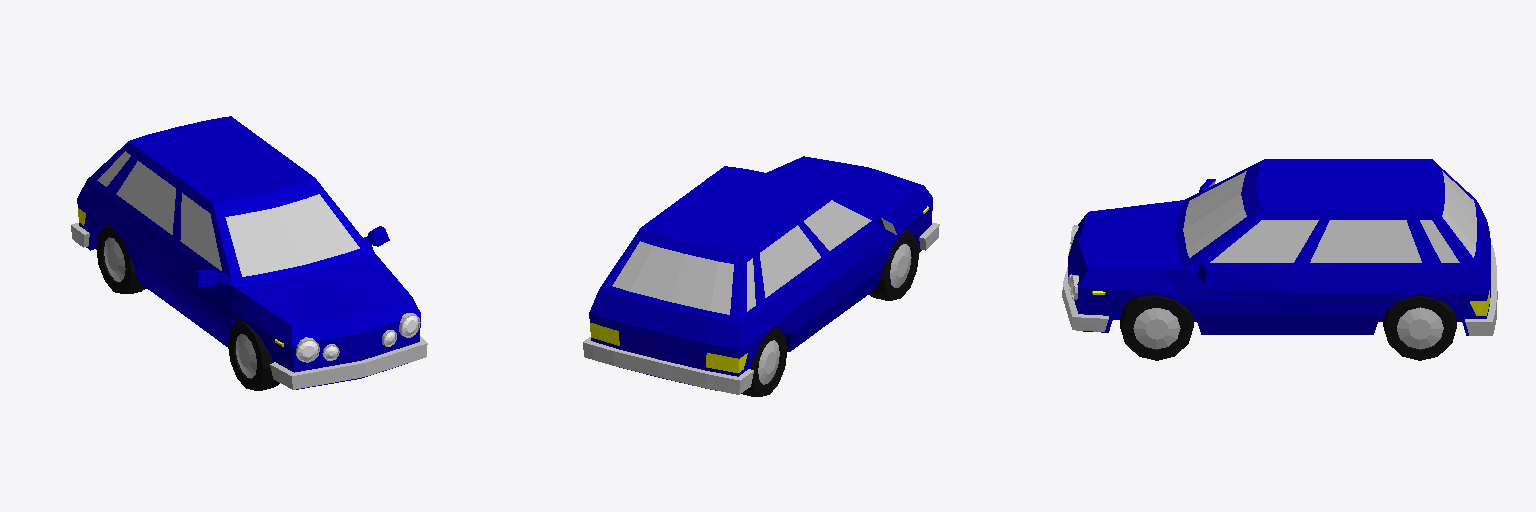
Rendered from coche.obj.
3 views of the same model, side by side, from view 1: azimuth 30°, elevation 25°; view 2: azimuth 150°, elevation 25°; view 3: azimuth 270°, elevation 25° (orthographic).
Visible parts, largest first — view 1: coche; view 2: coche; view 3: coche.
Boxes of the visible parts, x1=… form: coche: x1=71, y1=116, x2=427, y2=390; coche: x1=583, y1=156, x2=939, y2=396; coche: x1=1062, y1=159, x2=1497, y2=360.
Bounding box in the file's own units: 4.12 × 2.93 × 8.07.